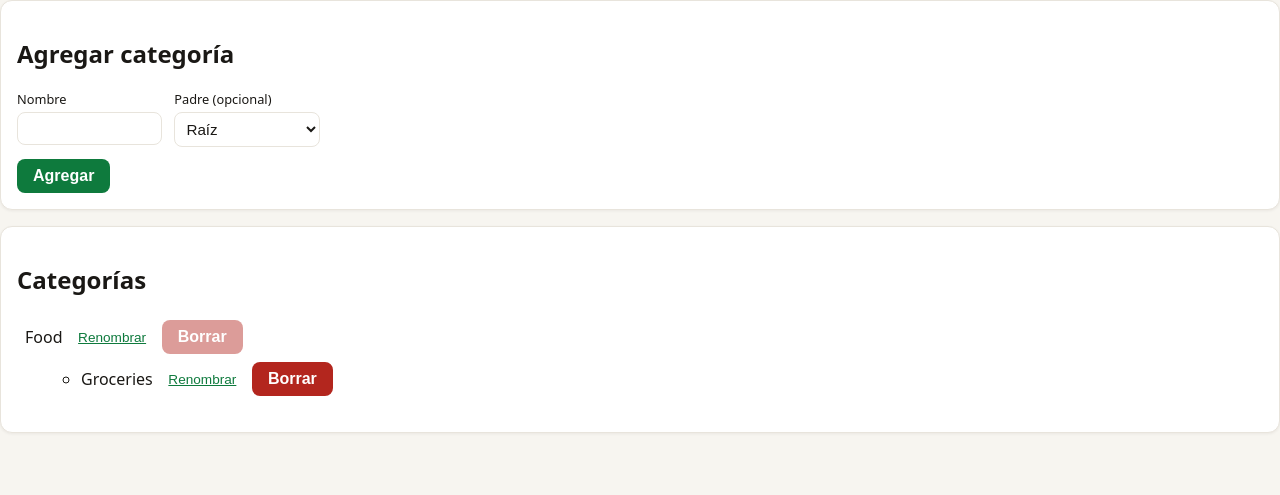
Test case: CategoriesPage › keeps the two-tap confirm and shows the API error when the delete still fails (CM-4)
The width and height of the screenshot is (1280, 495).
Click the button with test id "delete-11" at x=292, y=379, box [252,362,333,396]
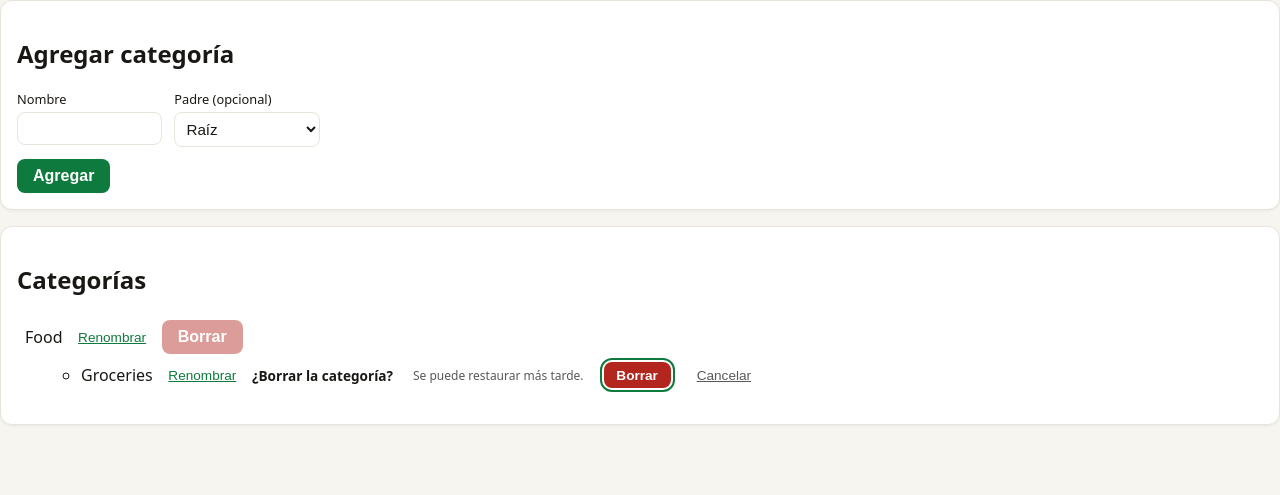
Click the button with test id "confirm-delete-11" at x=637, y=375, box [604,362,671,388]
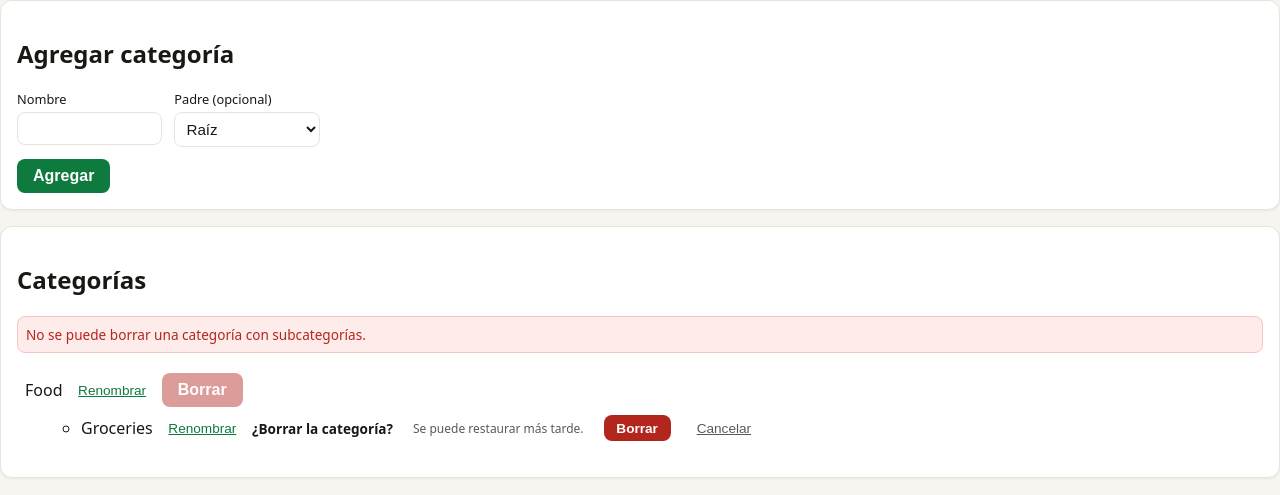
Check: the button with test id "confirm-delete-11" is shown, box [604,415,671,441]
Check: the text "No se puede borrar una categoría con subcategorías." is shown, box [17,316,1263,353]
